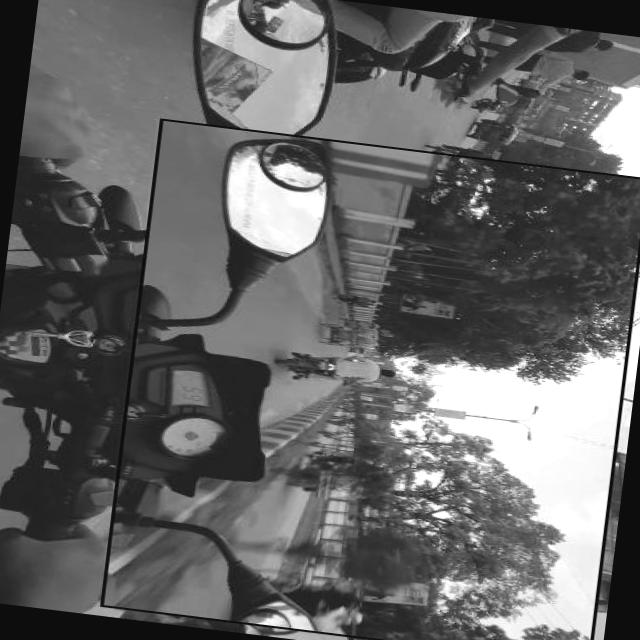motorcycle: (274, 345, 399, 391), (288, 446, 373, 504), (321, 321, 378, 349), (464, 116, 520, 144), (473, 95, 505, 114), (338, 315, 378, 329), (348, 346, 364, 352)
